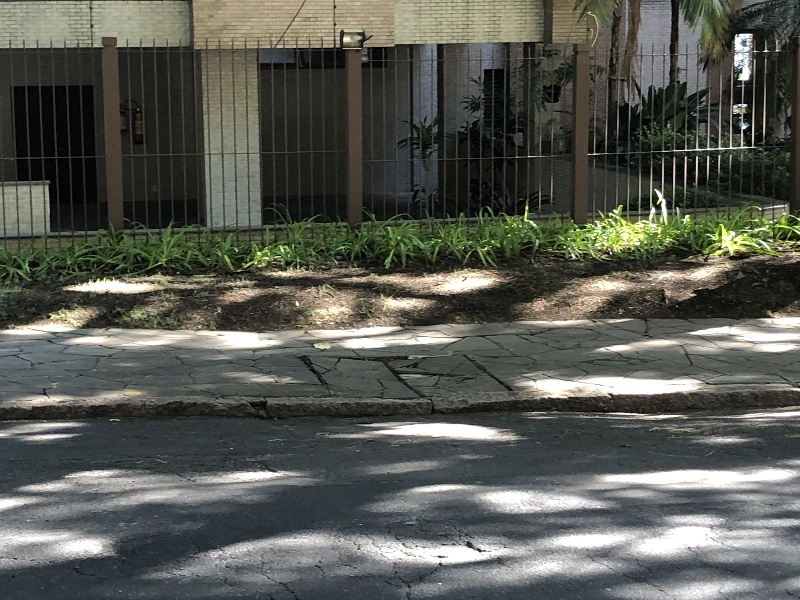v3: (3, 368, 796, 446)
